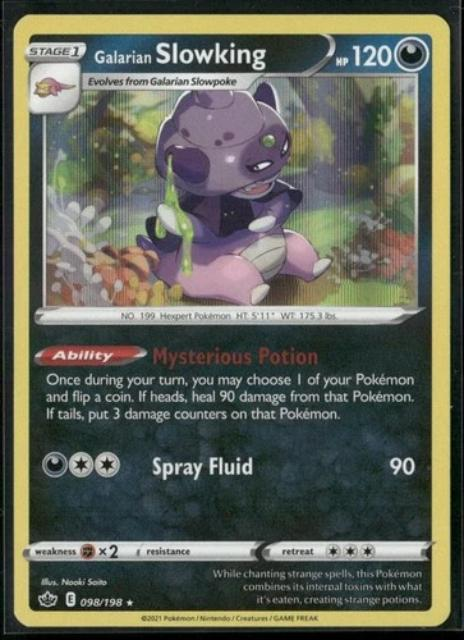Card: (10, 15, 453, 631)
Name: (87, 37, 273, 72)
